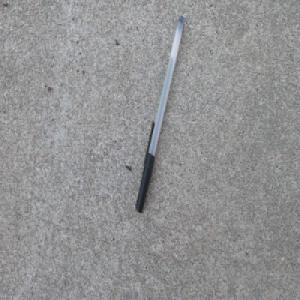Pen: (134, 13, 185, 214)
